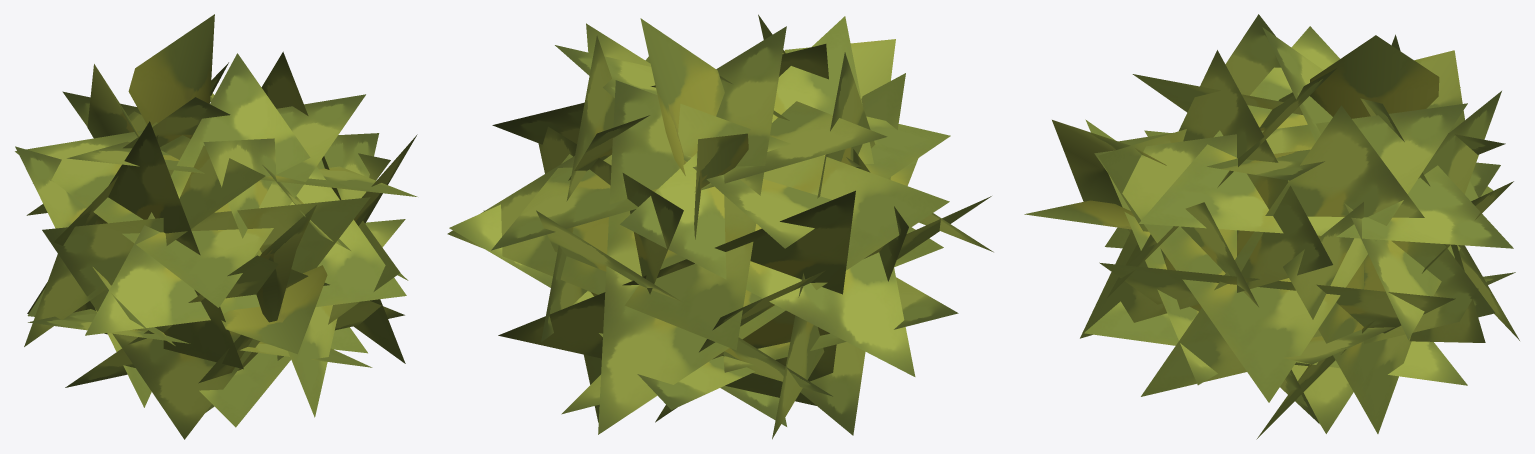
File: Raspberry_Bush_1a.fbx
The picture shows the model from 3 angles, left to right: view 1: azimuth 30°, elevation 25°; view 2: azimuth 150°, elevation 25°; view 3: azimuth 270°, elevation 25°; orthographic projection. The views are drawn at different scales.
Visible parts, largest first — view 1: Raspberry_Bush_1a; view 2: Raspberry_Bush_1a; view 3: Raspberry_Bush_1a.
Boxes of the visible parts, x1,y1,x2,y2 form: Raspberry_Bush_1a: (15,14,417,439); Raspberry_Bush_1a: (447,14,993,439); Raspberry_Bush_1a: (1024,14,1519,439).
Bounding box in the file's own units: 99.58 × 88.03 × 101.
Materials: 1 (1 with a texture image).
